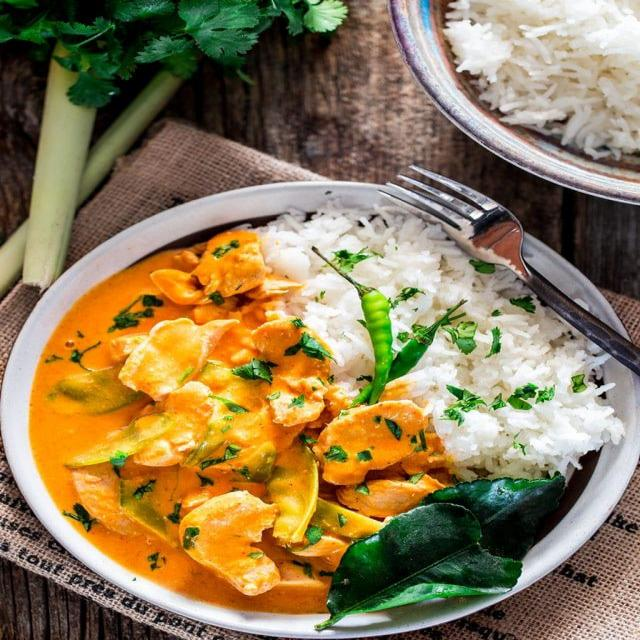chicken: (45, 272, 333, 550)
rice: (268, 222, 638, 408), (437, 6, 640, 160)
